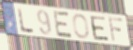9: (36, 10, 53, 37)
E: (53, 10, 73, 39), (89, 15, 110, 42)
F: (107, 16, 125, 44)
L: (17, 8, 35, 34)
O: (72, 13, 91, 40)
